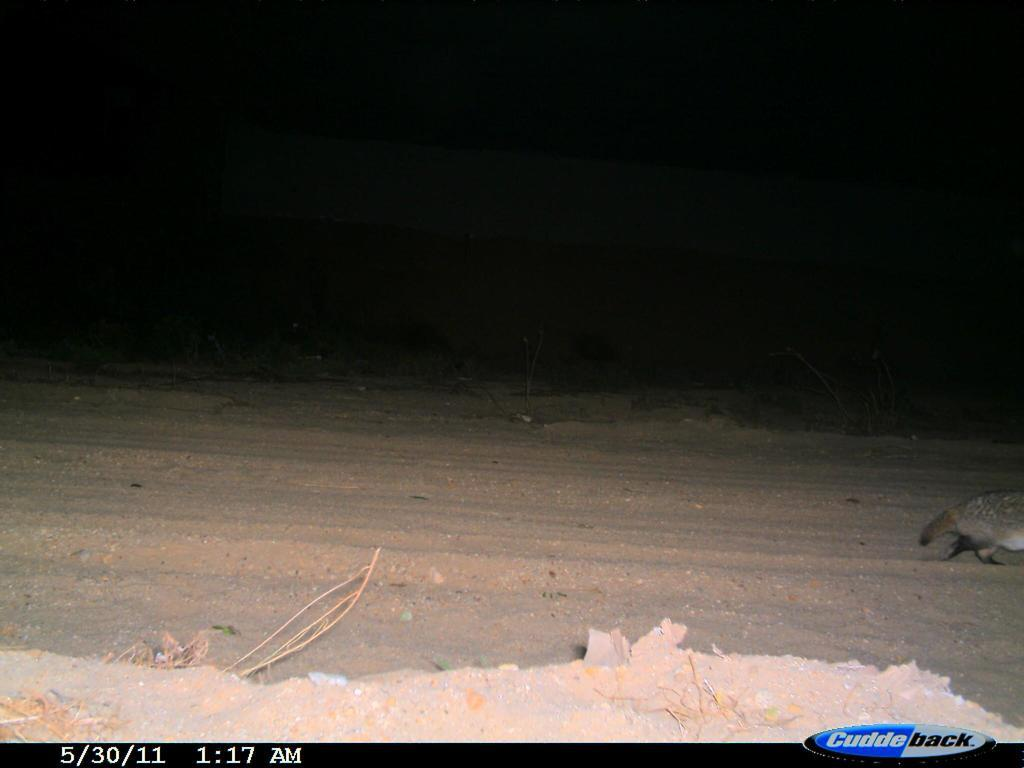badger: (916, 484, 1023, 566)
